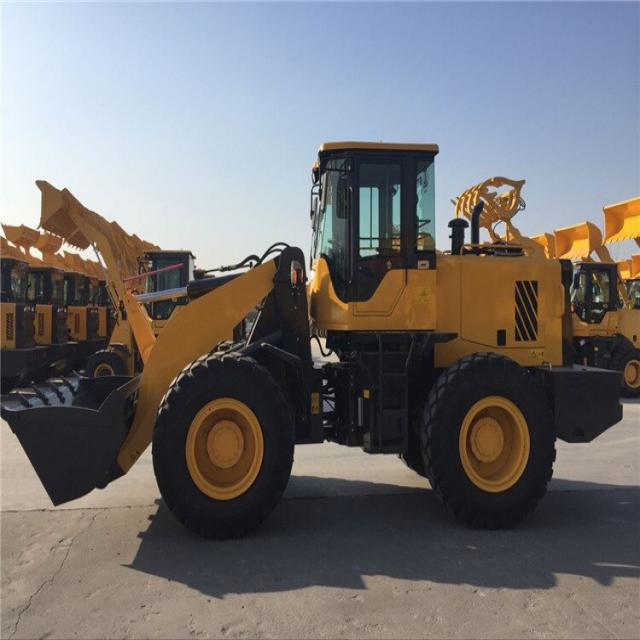buldozerpayloadergrader: (9, 134, 626, 529)
